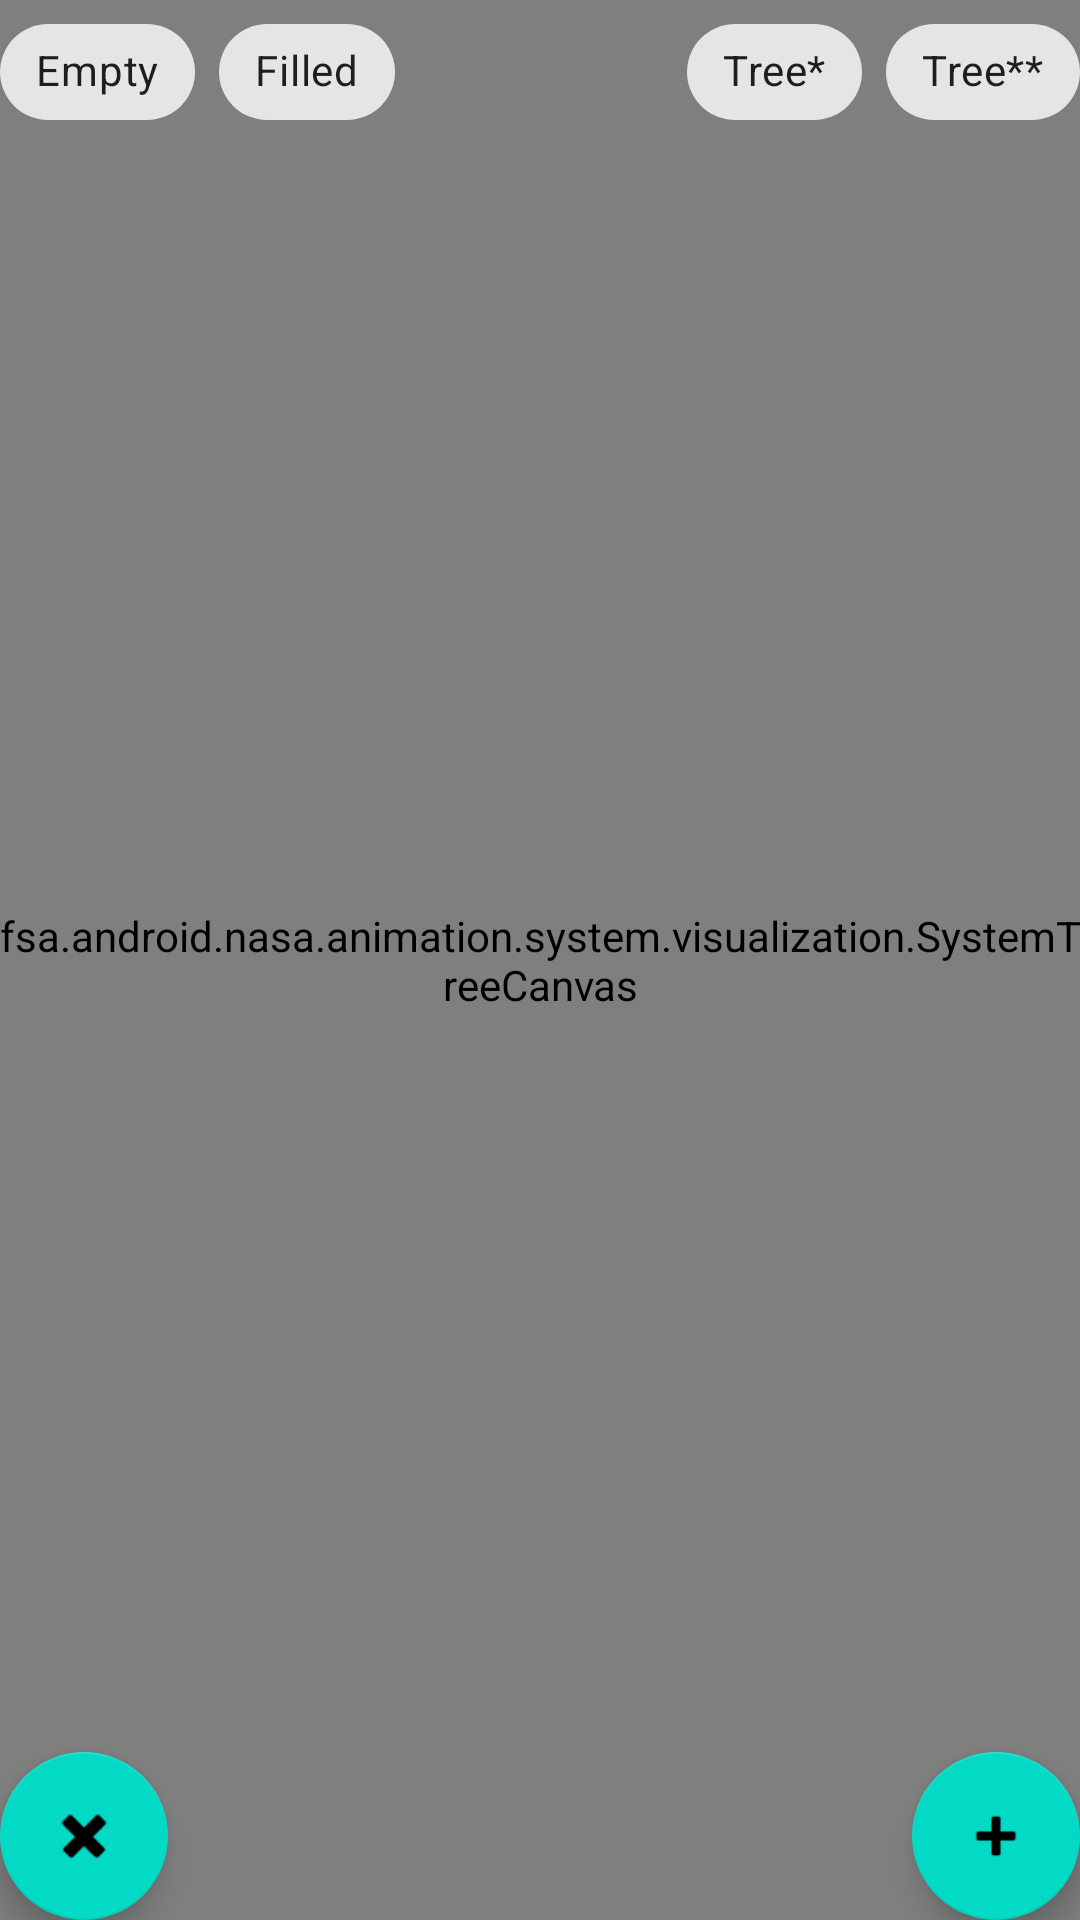

Screen size 1080×1920. Icon name, then its box in pixels as [left=x1, top=y1, right=x2, bottom=y2]:
add: [left=912, top=1752, right=1080, bottom=1920]
delete: [left=0, top=1752, right=168, bottom=1920]
